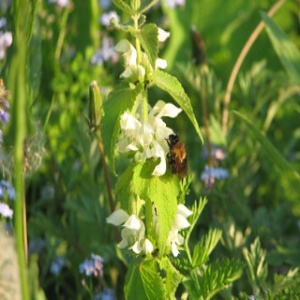bee: (167, 132, 191, 182)
